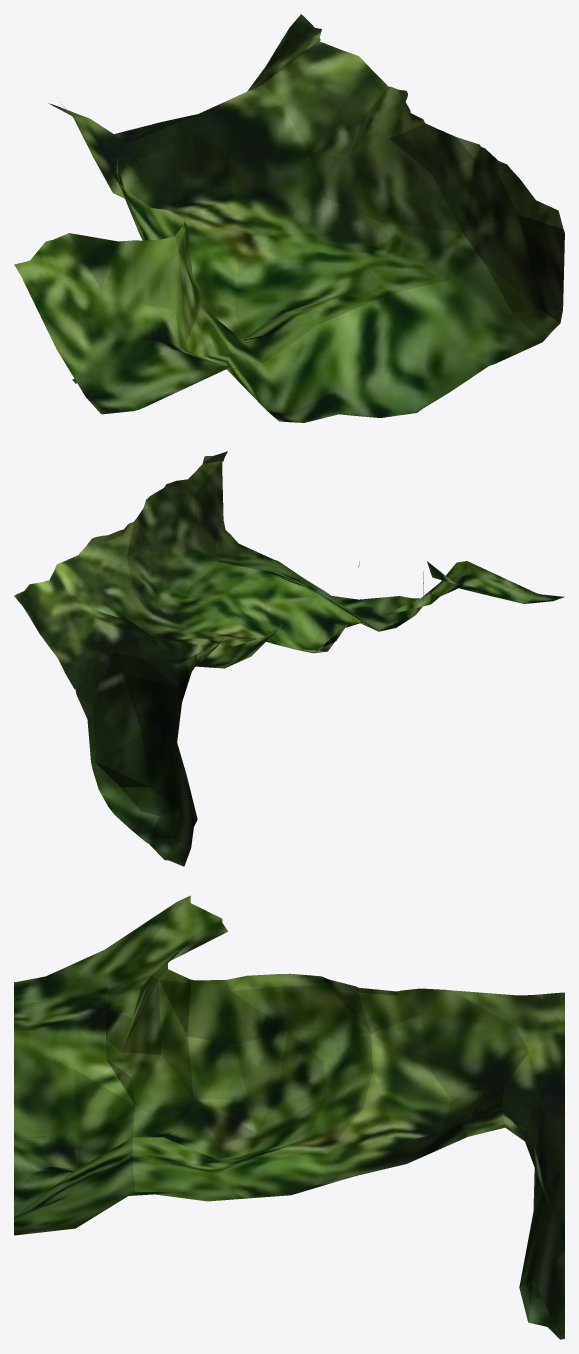
3 renders of one model, top to bottom at view 1: azimuth 30°, elevation 25°; view 2: azimuth 150°, elevation 25°; view 3: azimuth 270°, elevation 25°, orthographic. The views are drawn at different scales.
Size of the model in its own units: 0.8374 by 0.5298 by 0.8373.
3 materials, 3 textured.
